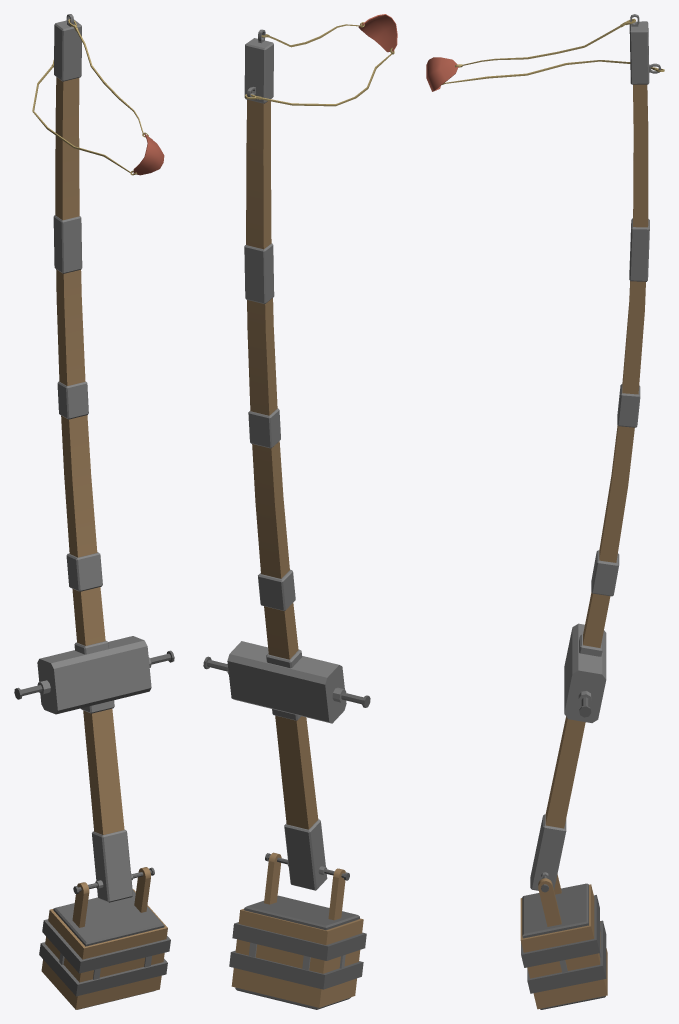
File: Trebuchet_Arm_Pose_03.fbx
3 renders of one model, left to right at view 1: azimuth 30°, elevation 25°; view 2: azimuth 150°, elevation 25°; view 3: azimuth 270°, elevation 25°, orthographic. The views are drawn at different scales.
Parts seen in each view (by area): view 1: Trebuchet_Arm_Pose_03; view 2: Trebuchet_Arm_Pose_03; view 3: Trebuchet_Arm_Pose_03.
Boxes of the visible parts, left/top/right/bottom form: Trebuchet_Arm_Pose_03: left=14, top=14, right=174, bottom=1009; Trebuchet_Arm_Pose_03: left=203, top=14, right=397, bottom=1009; Trebuchet_Arm_Pose_03: left=426, top=14, right=664, bottom=1009.
Bounding box in the file's own units: 74.36 × 439 × 97.09.
